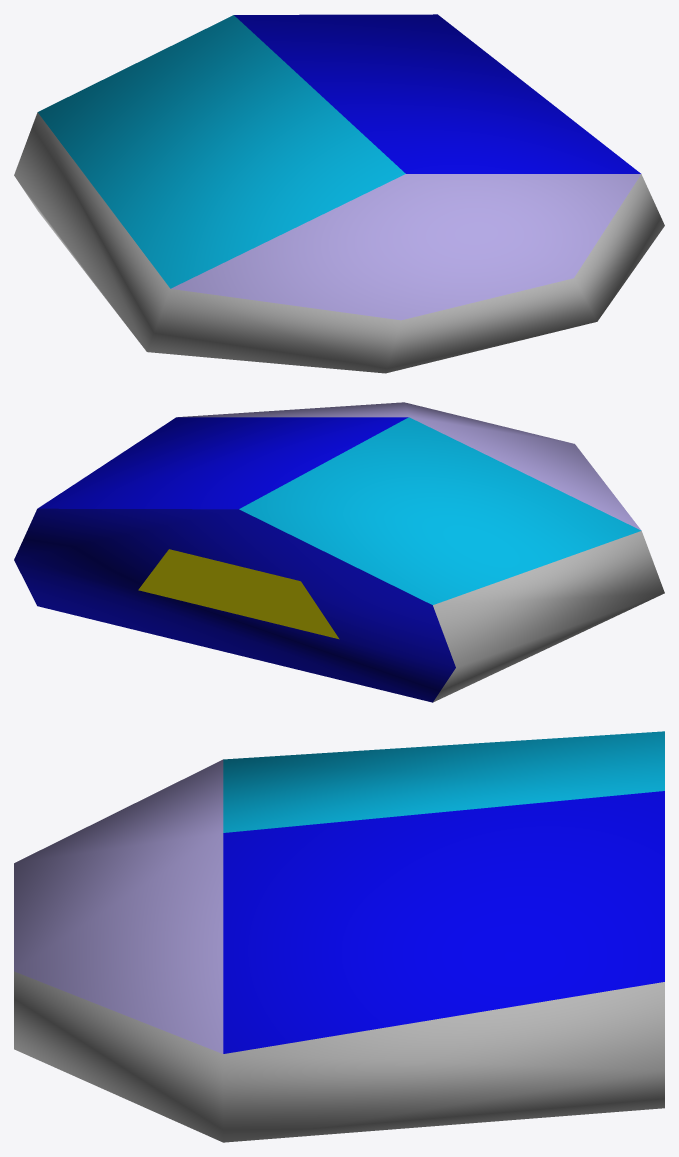
File: transporter.gltf
3 views of the same model, one above another, from view 1: azimuth 30°, elevation 25°; view 2: azimuth 150°, elevation 25°; view 3: azimuth 270°, elevation 25° (orthographic). The views are drawn at different scales.
Visible parts, largest first — view 1: transporter; view 2: transporter; view 3: transporter.
Part boxes in pixels (x1=…): transporter: x1=14, y1=14, x2=664, y2=373; transporter: x1=14, y1=402, x2=664, y2=702; transporter: x1=14, y1=731, x2=664, y2=1142.
Size of the model in its own units: 0.033 by 0.00908 by 0.028.
